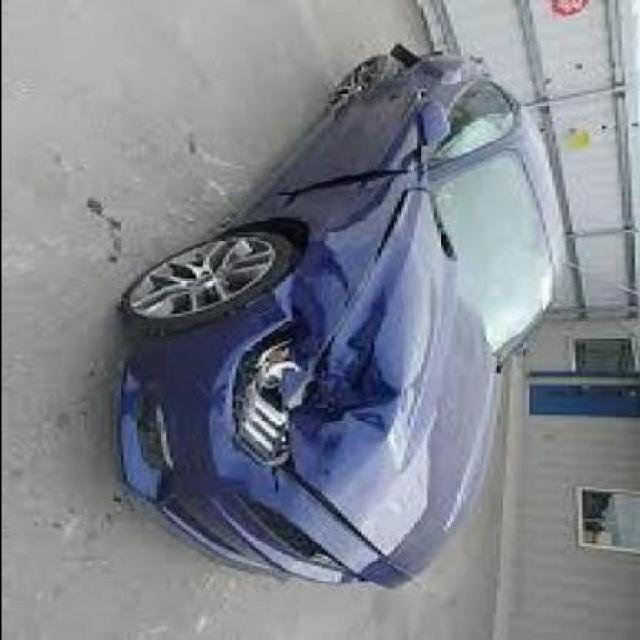damage: (229, 140, 457, 491), (325, 44, 488, 109)
